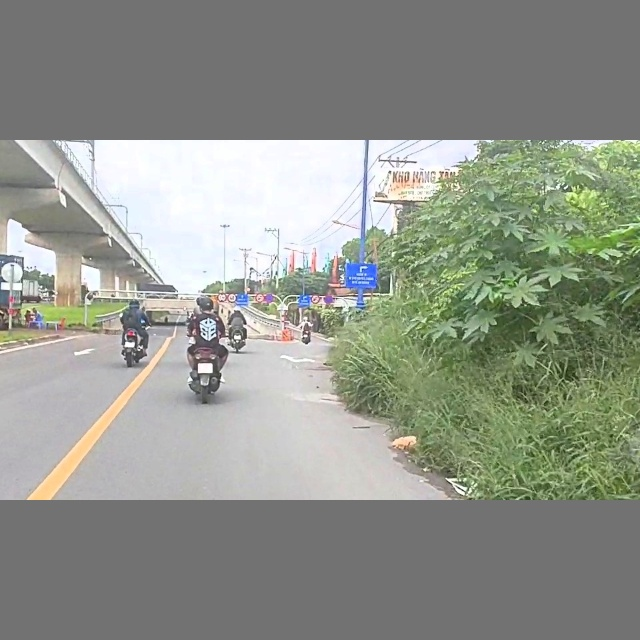P.107: (254, 293, 265, 303), (311, 295, 321, 304)
P.117*: (218, 293, 227, 302)
P.127*40: (227, 293, 237, 303)
P.130: (323, 295, 334, 305), (266, 294, 275, 303)
